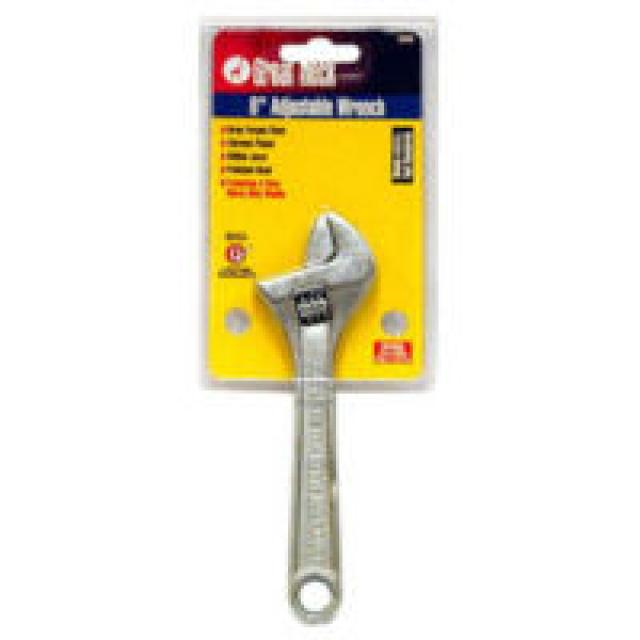wrench: (254, 215, 364, 630)
